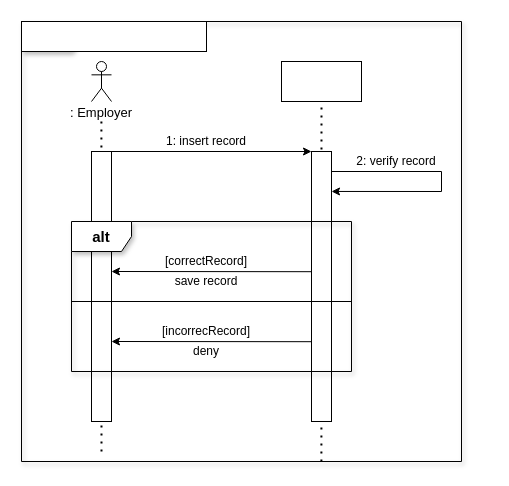
The diagram is 509 pixels wide and 486 high, and some of its shapes have lost their labels. Here are the shapes that lost their labels. From the top down, the centre of each, then its label:
pixel 113 36: interaction Insert Record
pixel 321 81: Sistema
